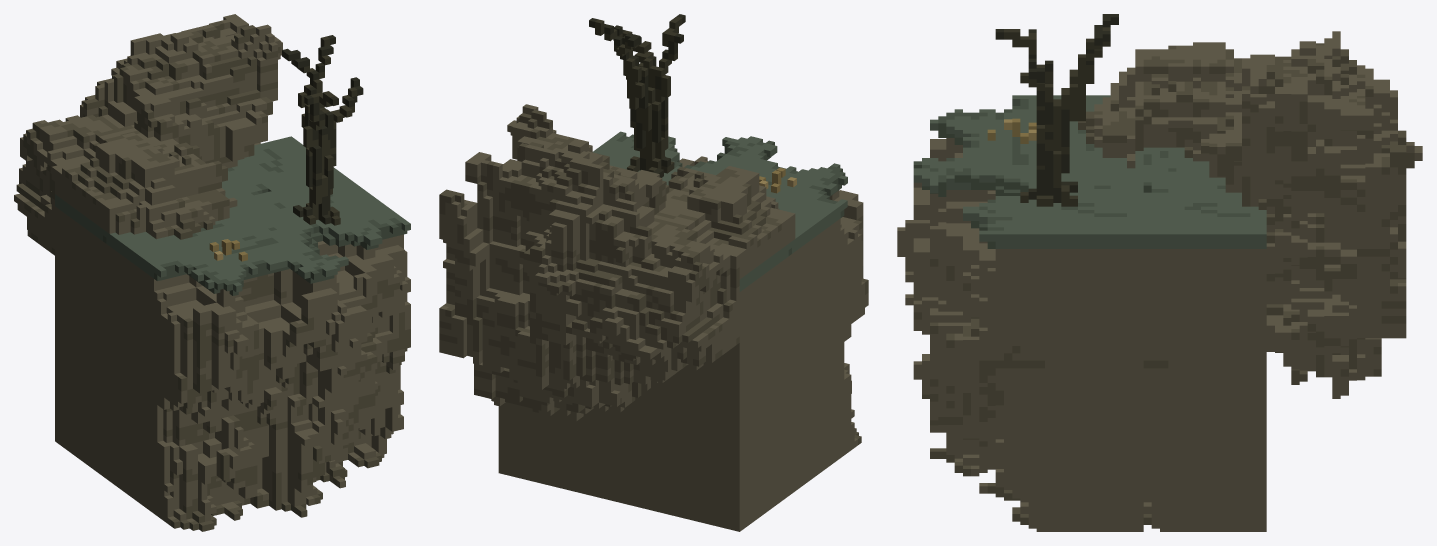
The model's file is mountain_0.obj.
3 renders of one model, left to right at view 1: azimuth 30°, elevation 25°; view 2: azimuth 150°, elevation 25°; view 3: azimuth 270°, elevation 25°, orthographic. The views are drawn at different scales.
Size of the model in its own units: 4 by 6.5 by 6.4.
1 material, 1 textured.
